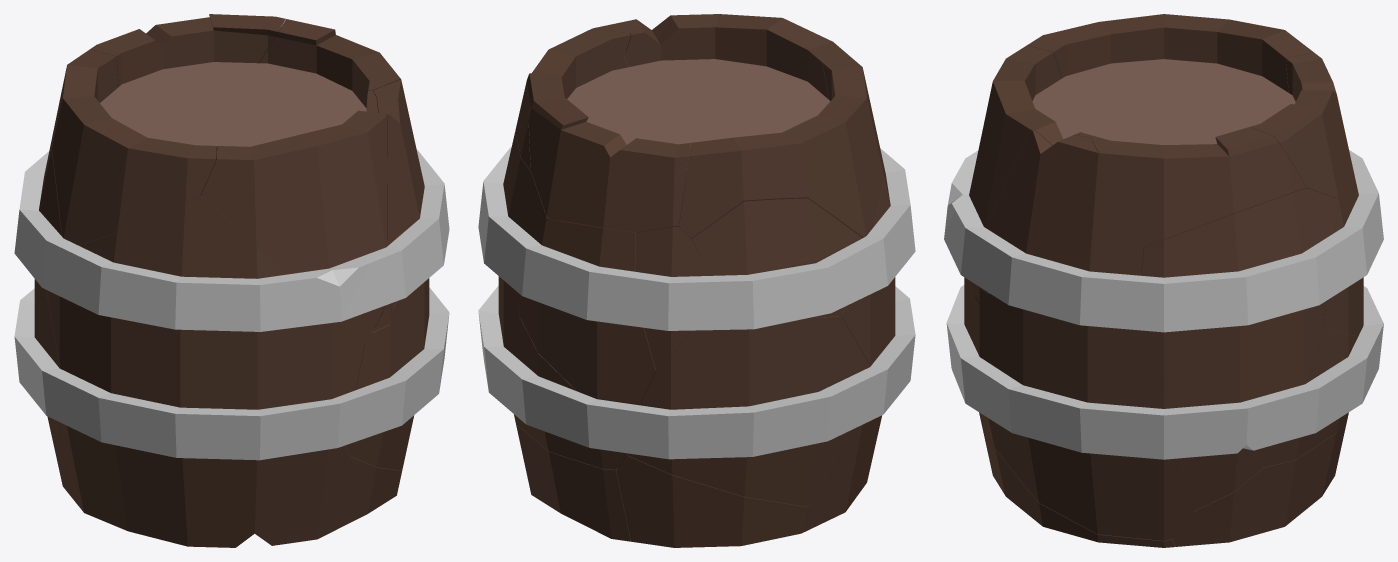
The model's file is Barrel crashed.fbx.
The picture shows the model from 3 angles, left to right: view 1: azimuth 30°, elevation 25°; view 2: azimuth 150°, elevation 25°; view 3: azimuth 270°, elevation 25°; orthographic projection.
Visible parts, largest first — view 1: Barrel 1.001_cell.011, Barrel 1.001_cell.018, Barrel 1.001_cell.009, Ring 1, Barrel 1.001_cell.003, Top, Ring 2.001, Ring 2, Barrel 1.001_cell.017, Ring 1.001, Barrel 1.001_cell.006, Barrel 1.001_cell.002 (+4 smaller); view 2: Barrel 1.001_cell.010, Ring 1, Barrel 1.001_cell.003, Top, Ring 2.001, Barrel 1.001_cell.017, Barrel 1.001_cell.016, Barrel 1.001_cell.014, Barrel 1.001_cell.018, Barrel 1.001_cell.008, Ring 2, Ring 1.001 (+9 smaller); view 3: Barrel 1.001_cell.006, Ring 1.001, Ring 2, Top, Barrel 1.001_cell.001, Barrel 1.001_cell.002, Barrel 1.001_cell.013, Barrel 1.001_cell.003, Barrel 1.001_cell.005, Barrel 1.001_cell.012, Barrel 1.001_cell.018, Barrel 1.001_cell.017 (+4 smaller).
Part boxes in pixels (x1,y1,x2,y2): Barrel 1.001_cell.011: [46, 196, 364, 409]; Barrel 1.001_cell.018: [200, 90, 387, 343]; Barrel 1.001_cell.009: [59, 422, 350, 547]; Ring 1: [14, 151, 369, 331]; Barrel 1.001_cell.003: [52, 49, 216, 245]; Top: [100, 62, 366, 146]; Ring 2.001: [14, 288, 316, 460]; Ring 2: [288, 287, 449, 451]; Barrel 1.001_cell.017: [90, 14, 285, 86]; Ring 1.001: [341, 150, 449, 321]; Barrel 1.001_cell.006: [345, 278, 429, 470]; Barrel 1.001_cell.002: [259, 19, 400, 108]; Barrel 1.001_cell.010: [627, 316, 870, 506]; Ring 1: [559, 148, 915, 330]; Barrel 1.001_cell.003: [678, 56, 884, 253]; Top: [567, 59, 830, 184]; Ring 2.001: [610, 286, 915, 459]; Barrel 1.001_cell.017: [528, 92, 690, 232]; Barrel 1.001_cell.016: [519, 219, 655, 405]; Barrel 1.001_cell.014: [616, 455, 809, 547]; Barrel 1.001_cell.018: [625, 14, 849, 99]; Barrel 1.001_cell.008: [692, 198, 862, 317]; Ring 2: [478, 285, 639, 450]; Ring 1.001: [478, 147, 586, 319]; Barrel 1.001_cell.006: [971, 291, 1191, 540]; Ring 1.001: [944, 210, 1383, 332]; Ring 2: [946, 303, 1383, 459]; Top: [1032, 59, 1295, 144]; Barrel 1.001_cell.001: [1155, 301, 1325, 511]; Barrel 1.001_cell.002: [1090, 127, 1306, 247]; Barrel 1.001_cell.013: [983, 130, 1143, 292]; Barrel 1.001_cell.003: [1027, 14, 1313, 92]; Barrel 1.001_cell.005: [1141, 188, 1339, 277]; Barrel 1.001_cell.012: [1172, 412, 1348, 546]; Barrel 1.001_cell.018: [969, 45, 1092, 300]; Barrel 1.001_cell.017: [1251, 52, 1350, 198].
Bounding box in the file's own units: 2.05 × 2.03 × 2.05.
